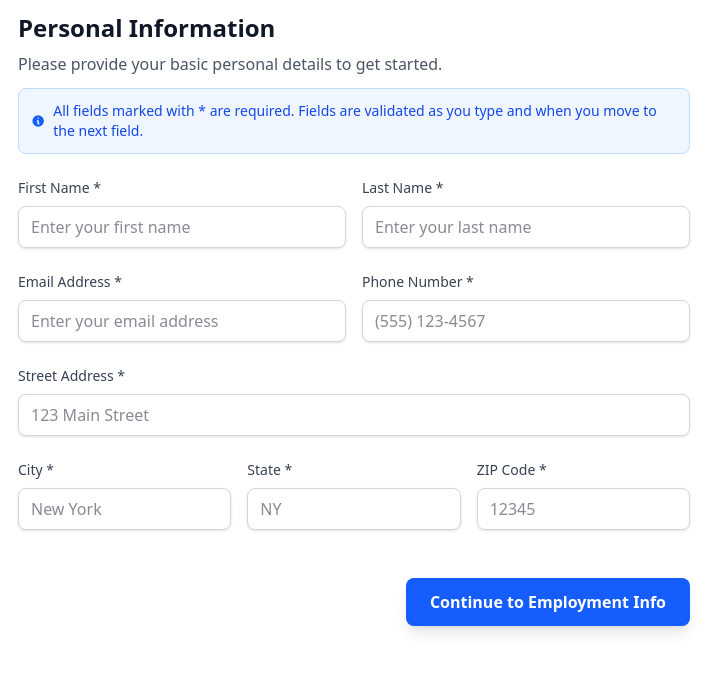
it: PersonalInfoForm Email Validation › clears validation errors when user starts typing
# First, trigger an error
Step 1. Type "invalid-email" into the field labelled "Email Address *" → (182, 321), box x1=18 y1=300 x2=346 y2=342
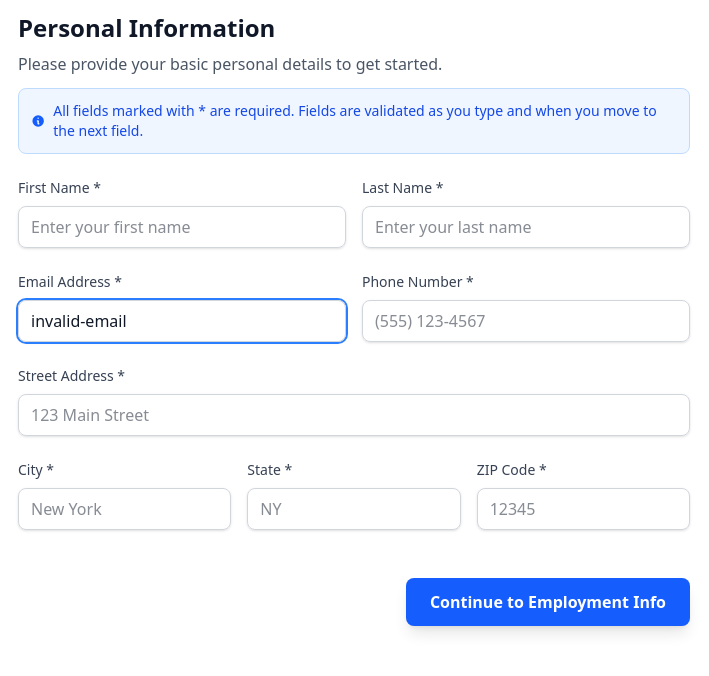
Step 2. Press Tab
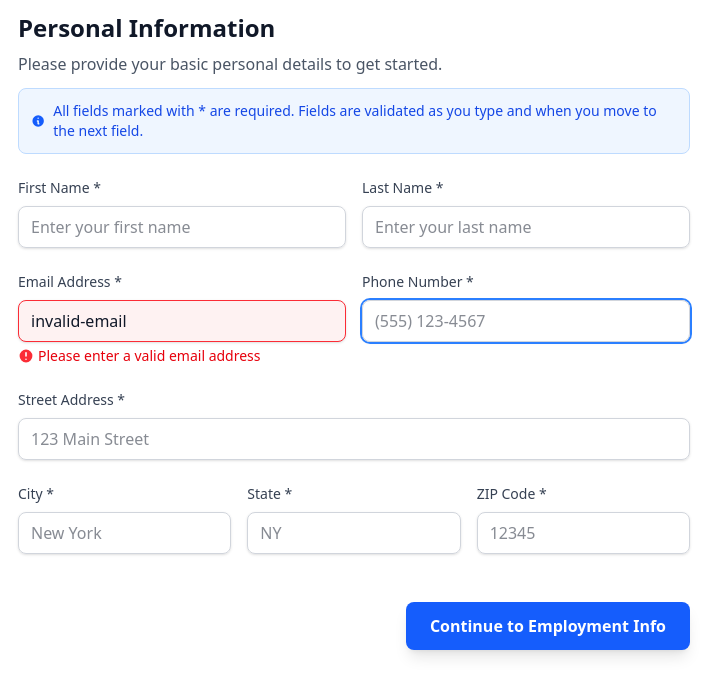
Check: the text "Please enter a valid email address" is shown, box x1=38 y1=346 x2=260 y2=366
# Start typing to clear the error
Step 3. Type "x" into the field labelled "Email Address *" → (182, 321), box x1=18 y1=300 x2=346 y2=342
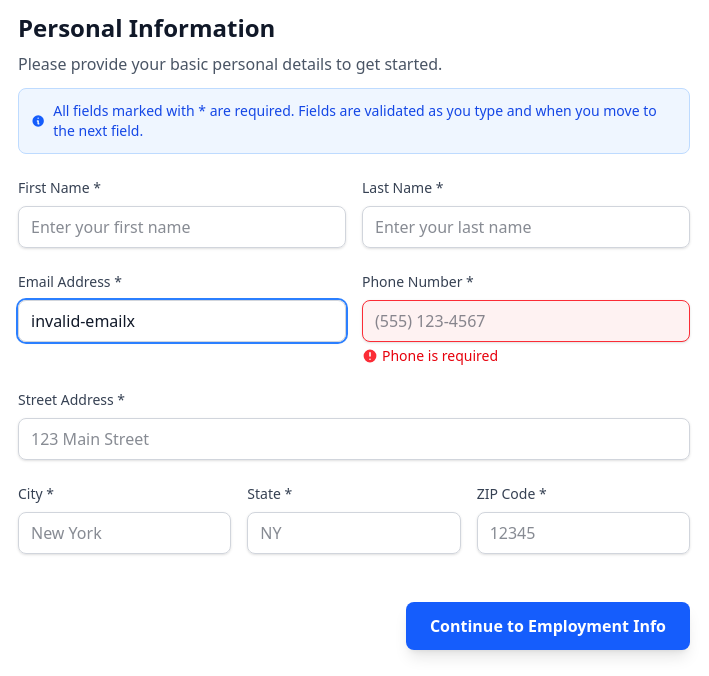
Check: the text "Please enter a valid email address" is gone
